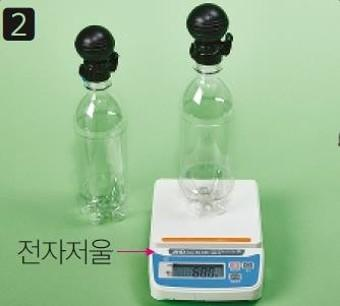bottle: (191, 3, 218, 217), (89, 24, 115, 223)
